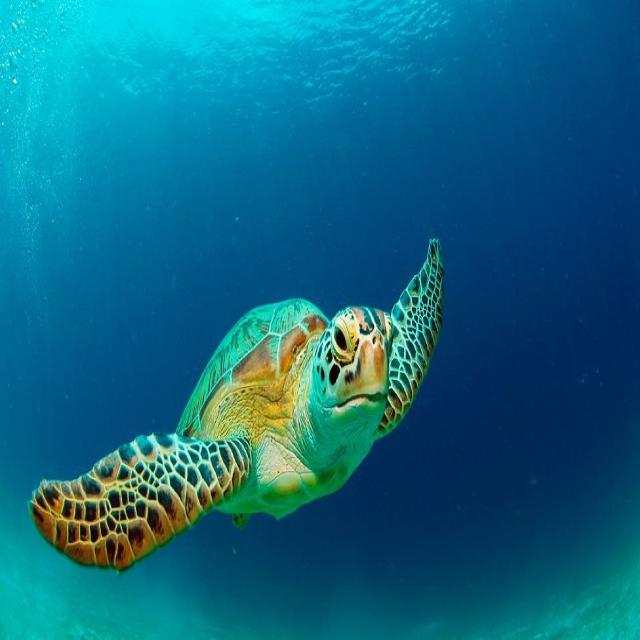turtle: (208, 296, 402, 506)
